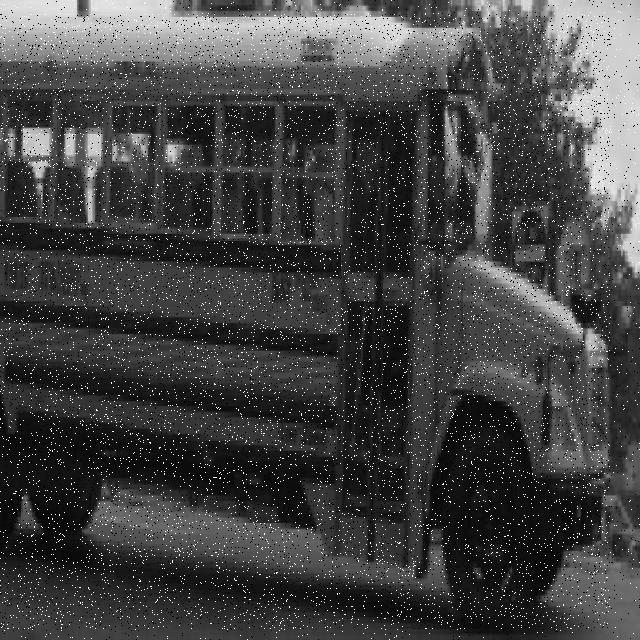Bus: (0, 14, 610, 629)
